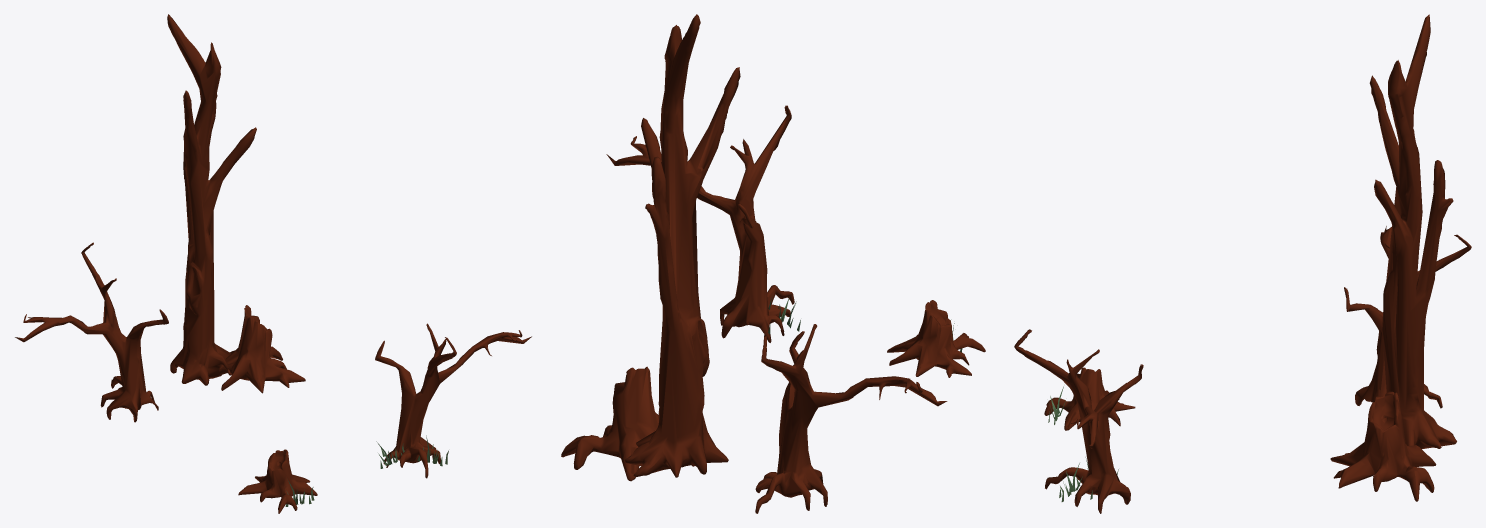
Rendered from carousel_a.glb.
The picture shows the model from 3 angles, left to right: view 1: azimuth 30°, elevation 25°; view 2: azimuth 150°, elevation 25°; view 3: azimuth 270°, elevation 25°; orthographic projection. The views are drawn at different scales.
Parts seen in each view (by area): view 1: bgTree_03.003, bgTree_01.002, bgTree_01, bgTree_02.001, bgTree_02; view 2: bgTree_03.003, bgTree_01, bgTree_01.002, bgTree_02.001, bgTree_02; view 3: bgTree_03.003, bgTree_01, bgTree_02.001, bgTree_01.002, bgTree_02.
Boxes of the visible parts, <box> form: bgTree_03.003: <box>167,14,256,385</box>; bgTree_01.002: <box>15,242,168,422</box>; bgTree_01: <box>375,323,531,478</box>; bgTree_02.001: <box>216,305,305,393</box>; bgTree_02: <box>238,449,317,513</box>; bgTree_03.003: <box>624,14,740,477</box>; bgTree_01: <box>606,105,794,342</box>; bgTree_01.002: <box>755,324,947,513</box>; bgTree_02.001: <box>561,366,658,481</box>; bgTree_02: <box>887,300,985,377</box>; bgTree_03.003: <box>1369,14,1456,448</box>; bgTree_01: <box>1014,329,1143,513</box>; bgTree_02.001: <box>1330,391,1436,501</box>; bgTree_01.002: <box>1344,226,1471,408</box>; bgTree_02: <box>1044,367,1135,430</box>.
Bounding box in the file's own units: 6.37 × 5.82 × 5.6.
2 materials, 1 textured.
